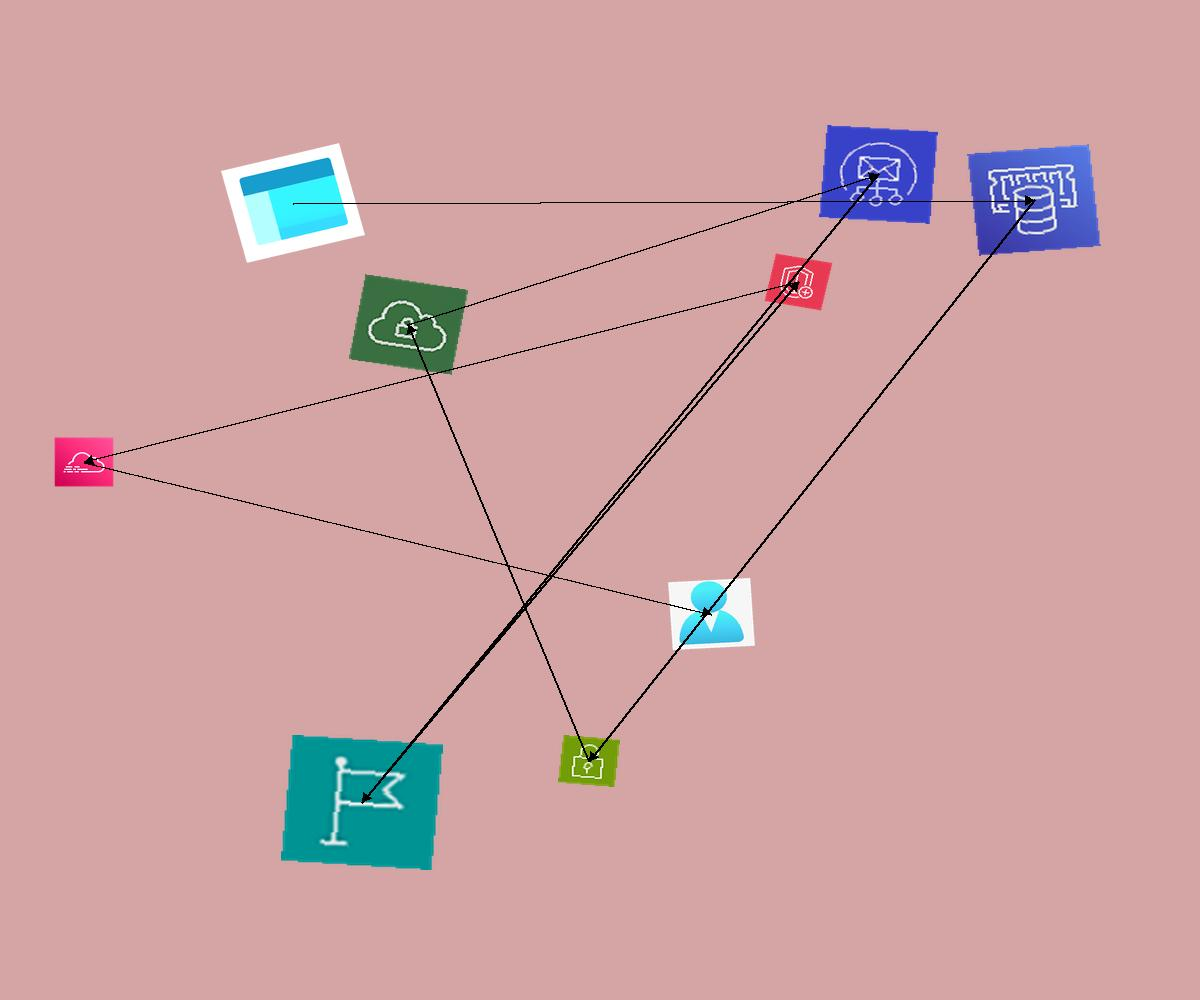AWS-CloudTrail: (54, 437, 114, 487)
AWS-ElastiCache: (967, 144, 1101, 256)
AWS-Private_vpc: (348, 274, 469, 375)
AWS-Public-subnet: (558, 735, 620, 787)
AWS-Region: (281, 735, 443, 870)
AWS-Shield: (764, 253, 833, 311)
AWS-Simple-Email-Service: (819, 125, 938, 224)
Azure_management-portal: (221, 143, 365, 263)
Azure_users: (668, 578, 755, 650)
